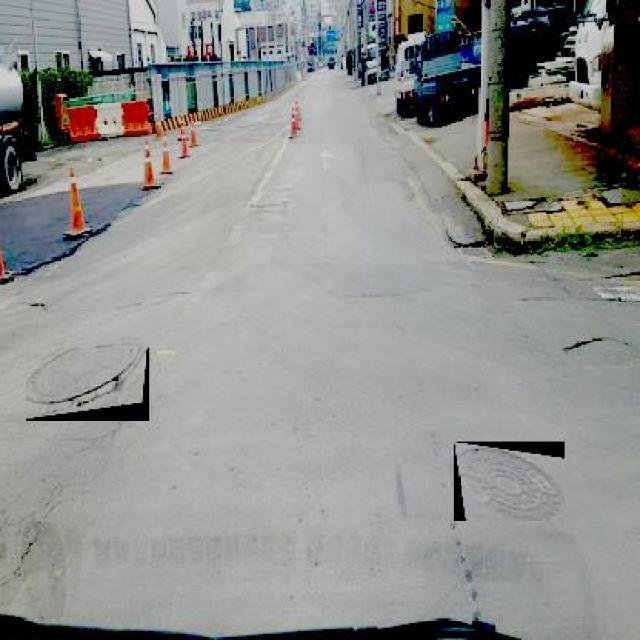Manhole: (26, 348, 149, 420), (454, 442, 566, 520)
Pothole: (552, 320, 640, 382), (14, 298, 66, 318)
